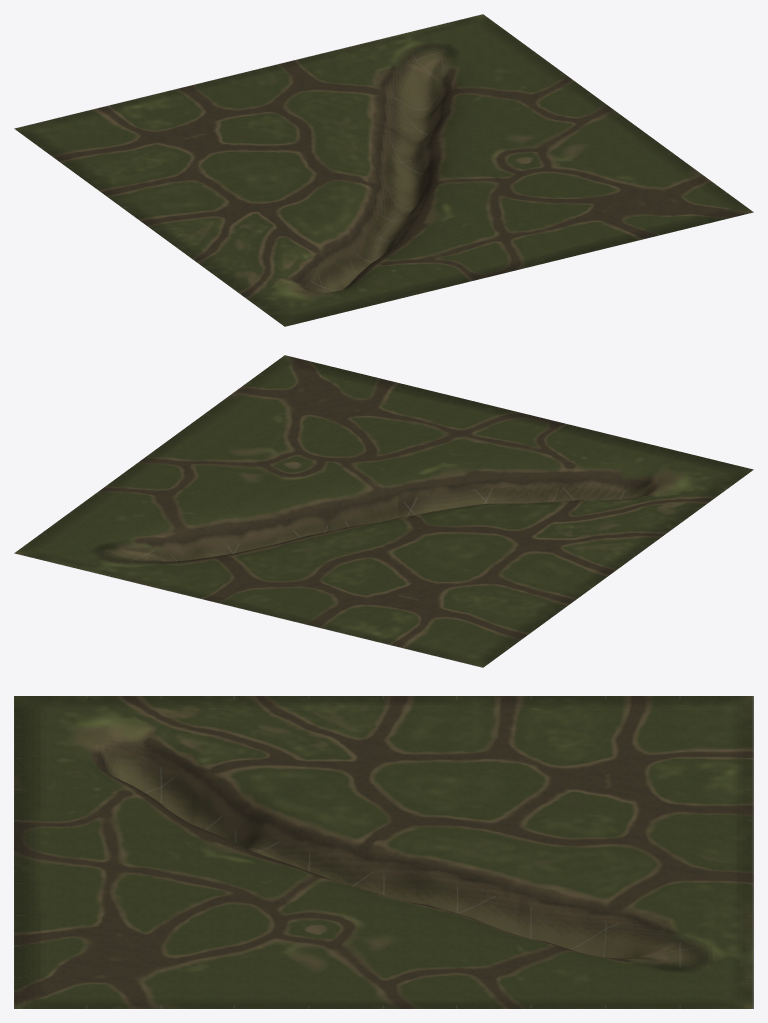
File: Forest_Floor.fbx
3 renders of one model, top to bottom at view 1: azimuth 30°, elevation 25°; view 2: azimuth 150°, elevation 25°; view 3: azimuth 270°, elevation 25°, orthographic. The views are drawn at different scales.
Visible parts, largest first — view 1: Plane001; view 2: Plane001; view 3: Plane001.
Part boxes in pixels (x1,y1,x2,y2): Plane001: [14, 14, 753, 326]; Plane001: [14, 355, 753, 667]; Plane001: [14, 696, 753, 1008].
Size of the model in its own units: 3800 by 288 by 3800.
Materials: 1 (1 with a texture image).
